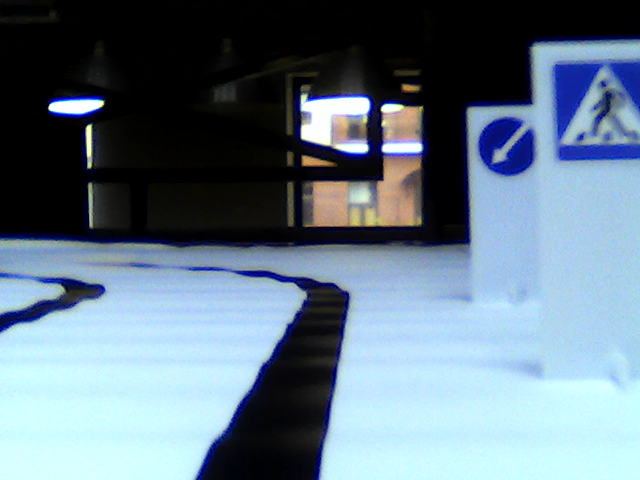pesh: (546, 60, 640, 162)
prep: (479, 118, 537, 176)
